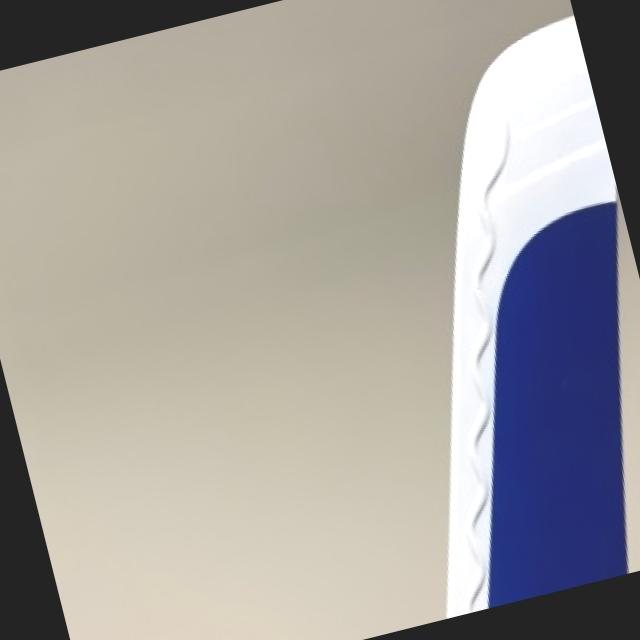healthy: (449, 17, 629, 616)
